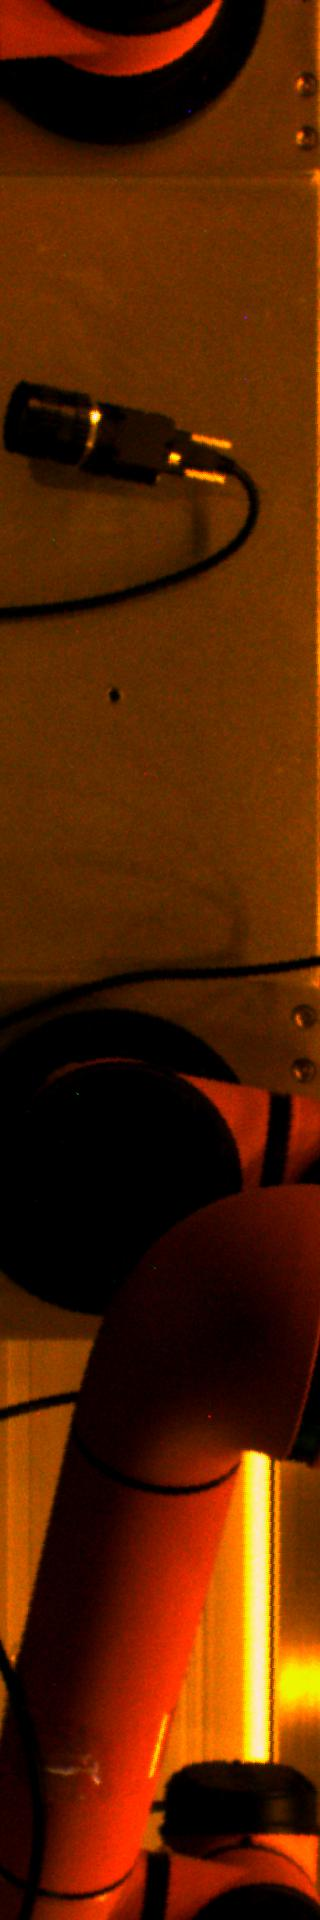keyPoint_2: (98, 681, 128, 711)
